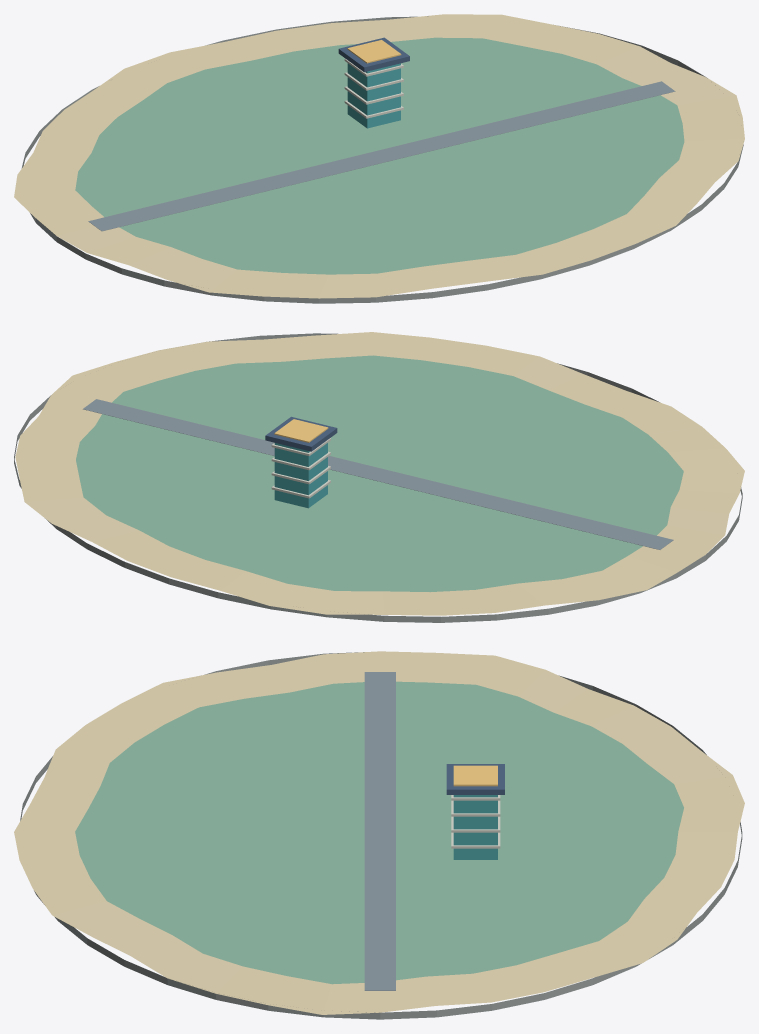
Rendered from far.glb.
3 views of the same model, one above another, from view 1: azimuth 30°, elevation 25°; view 2: azimuth 150°, elevation 25°; view 3: azimuth 270°, elevation 25° (orthographic). The views are drawn at different scales.
Parts seen in each view (by area): view 1: EastIslandTerrain, Island avenue, CoastCliff, Signal tower, Batched Pale stone architecture, Crowned roof, Crowned roof gold cap; view 2: EastIslandTerrain, Island avenue, CoastCliff, Signal tower, Batched Pale stone architecture, Crowned roof, Crowned roof gold cap; view 3: EastIslandTerrain, Island avenue, CoastCliff, Signal tower, Batched Pale stone architecture, Crowned roof gold cap, Crowned roof.
Part boxes in pixels (x1,y1,x2,y2): EastIslandTerrain: (14, 14, 744, 298); Island avenue: (88, 81, 675, 231); CoastCliff: (21, 16, 743, 303); Signal tower: (347, 63, 400, 128); Batched Pale stone architecture: (344, 59, 403, 118); Crowned roof: (338, 37, 409, 72); Crowned roof gold cap: (347, 40, 401, 63); EastIslandTerrain: (15, 332, 744, 615); Island avenue: (83, 399, 673, 549); CoastCliff: (14, 333, 742, 622); Signal tower: (274, 443, 327, 508); Batched Pale stone architecture: (271, 438, 330, 498); Crowned roof: (265, 416, 337, 451); Crowned roof gold cap: (274, 419, 328, 442); EastIslandTerrain: (14, 651, 744, 1014); Island avenue: (364, 672, 395, 990); CoastCliff: (20, 652, 742, 1019); Signal tower: (453, 795, 497, 859); Batched Pale stone architecture: (451, 795, 500, 848); Crowned roof gold cap: (453, 765, 497, 786); Crowned roof: (446, 764, 504, 794).
Bounding box in the file's own units: 1711 × 182 × 1454.
